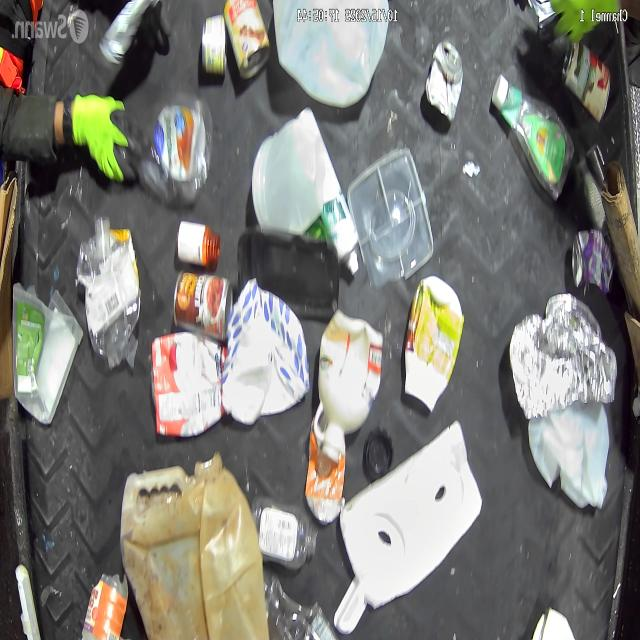can: (104, 95, 214, 206), (173, 263, 231, 340), (566, 36, 610, 124), (226, 0, 270, 82), (424, 36, 464, 122), (568, 230, 616, 286), (200, 14, 223, 78)
milk_jug: (272, 0, 384, 122), (254, 112, 332, 230), (534, 414, 612, 512)
non_white_jug: (121, 466, 255, 640)
plastic_bottle: (248, 499, 318, 559)
